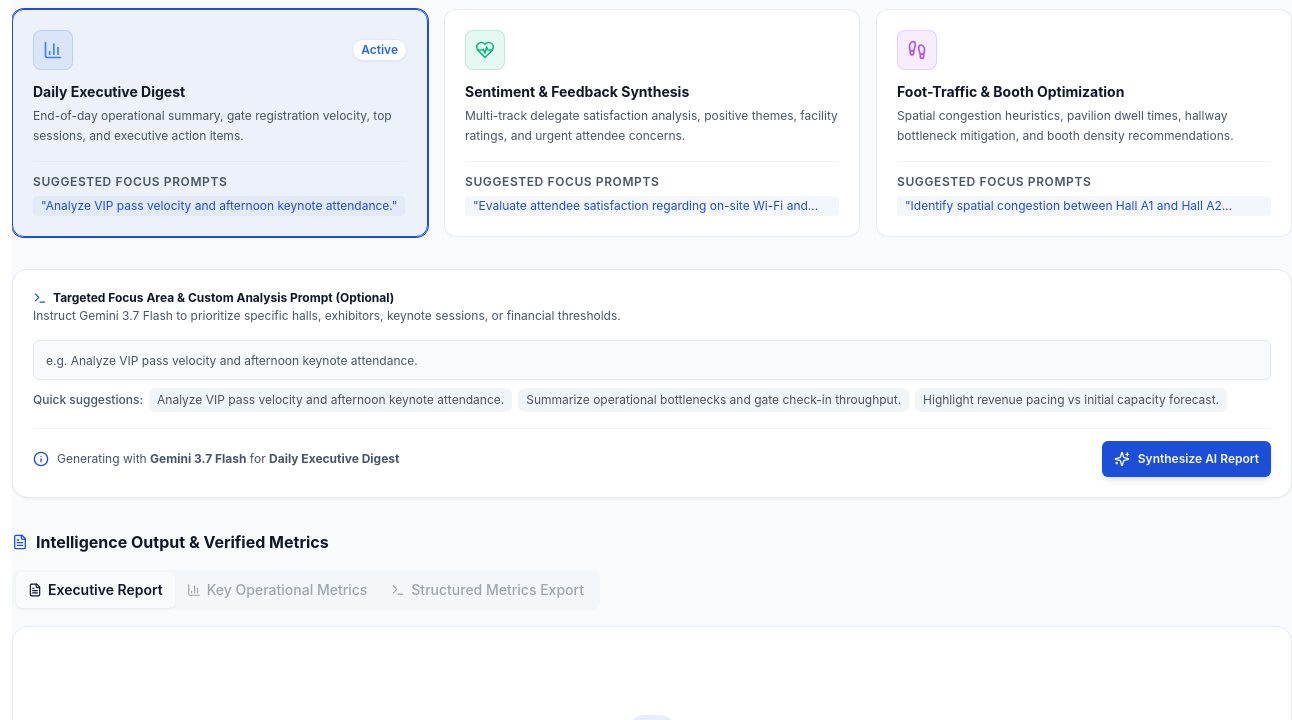
Test case: AIReportsHub Component (Phase 10 Organizer AI Intelligence Hub) › updates focus area with custom text and quick suggestions
(page scrolled)
Replace the text in the field with placeholder "e.g." with "Analyze Hall A1 afternoon bottleneck" at (652,360), box x1=33 y1=340 x2=1271 y2=380
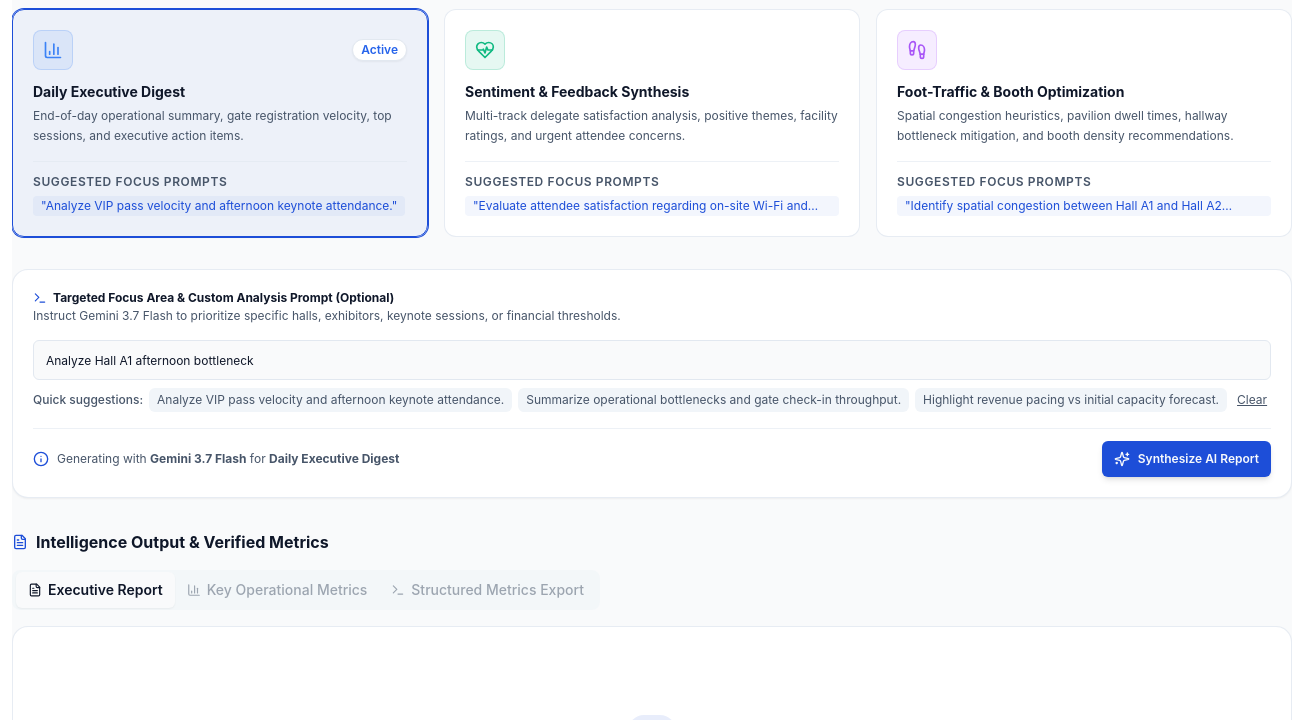
Note: Click a quick suggestion chip
Click the button "Summarize operational bottlenecks".
click(714, 400)  # box x1=518 y1=388 x2=909 y2=412
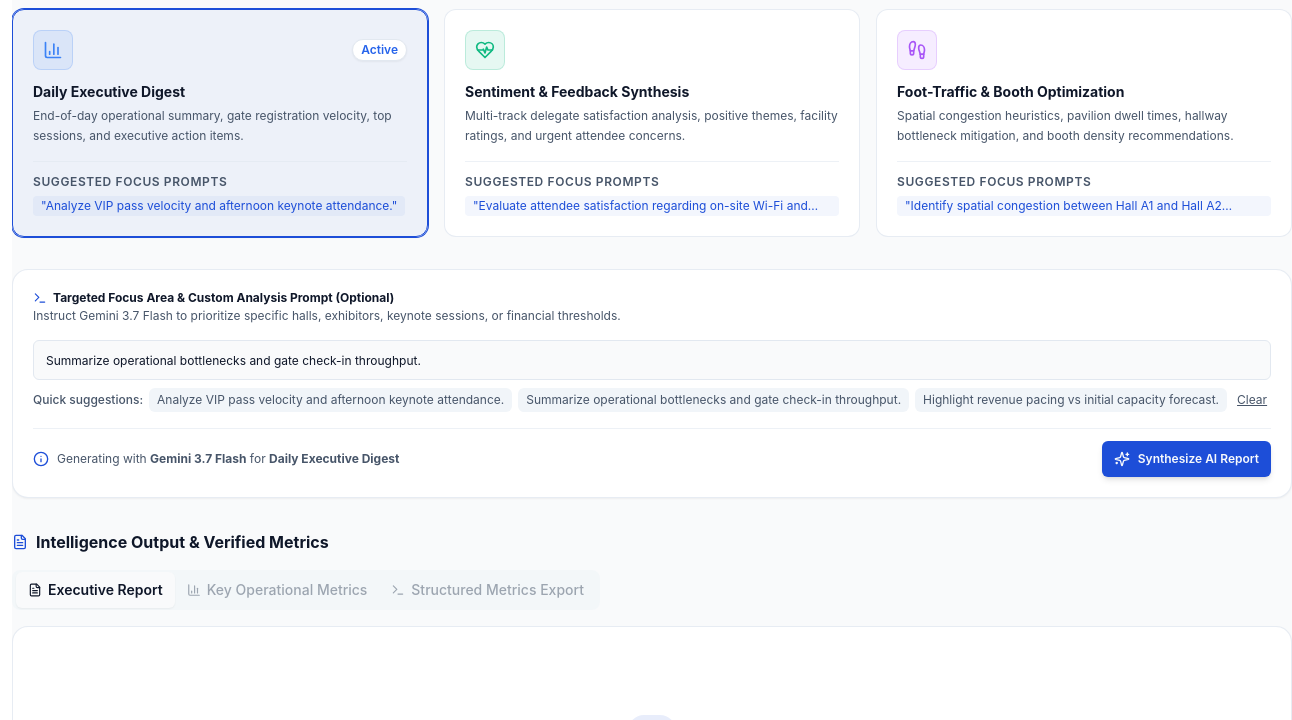
Check: the field with placeholder "e.g." holds "Summarize operational bottlenecks and gate check-in throughput.", box x1=33 y1=340 x2=1271 y2=380
